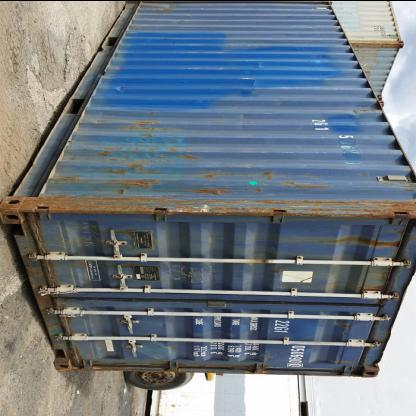Damage: (20, 190, 416, 212), (88, 152, 175, 186), (112, 106, 184, 143), (194, 164, 280, 182), (225, 69, 268, 102), (46, 150, 76, 190), (144, 0, 180, 24), (110, 76, 134, 92)
